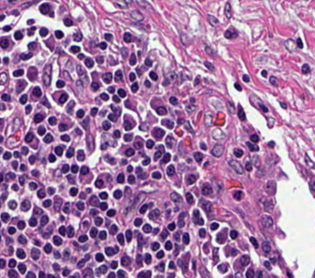nucleus: (229, 160, 242, 173), (43, 64, 51, 85), (152, 127, 164, 139), (211, 144, 223, 156), (199, 200, 211, 212), (130, 10, 143, 21), (265, 180, 275, 194), (201, 183, 212, 195), (261, 215, 272, 227), (285, 39, 295, 51), (224, 29, 237, 38), (170, 192, 181, 202), (161, 119, 173, 128), (238, 105, 245, 120), (86, 135, 93, 150), (208, 15, 218, 25), (186, 174, 196, 184), (149, 209, 159, 219), (264, 199, 273, 210), (225, 2, 231, 18), (77, 65, 85, 77), (66, 101, 74, 113), (246, 142, 258, 150), (54, 197, 61, 210), (204, 61, 214, 70), (102, 73, 111, 83), (59, 93, 68, 103), (111, 105, 120, 115), (233, 148, 243, 157), (216, 233, 225, 243), (114, 70, 122, 81), (115, 0, 127, 7), (227, 101, 234, 113), (81, 117, 88, 129), (40, 4, 49, 13), (32, 87, 41, 96), (89, 196, 98, 205), (73, 31, 81, 41), (123, 32, 131, 42), (41, 97, 49, 107), (194, 152, 202, 162), (162, 153, 170, 163), (166, 165, 174, 175), (40, 215, 48, 225), (85, 58, 93, 67), (149, 71, 157, 80), (166, 72, 175, 80), (34, 114, 43, 122), (124, 120, 132, 129), (43, 134, 52, 142), (125, 148, 134, 156), (233, 191, 242, 199), (76, 201, 84, 210), (139, 204, 147, 213), (67, 225, 73, 237), (125, 229, 131, 241), (53, 236, 61, 245), (156, 107, 166, 114), (66, 147, 73, 157), (77, 150, 84, 160), (186, 193, 193, 203), (110, 224, 117, 234), (160, 230, 167, 240), (250, 237, 257, 247), (129, 54, 135, 65), (166, 136, 172, 147), (117, 233, 123, 244), (55, 30, 63, 38), (91, 82, 99, 90), (169, 96, 177, 104), (76, 109, 84, 117), (108, 113, 116, 121), (102, 121, 110, 129), (154, 151, 162, 159), (80, 166, 88, 174), (95, 179, 103, 187), (37, 189, 45, 197), (113, 190, 121, 198), (43, 199, 51, 207), (99, 202, 107, 210), (143, 224, 151, 232), (151, 242, 159, 250), (302, 64, 309, 73), (118, 88, 125, 97), (260, 103, 267, 112), (186, 105, 195, 112), (185, 122, 192, 131), (55, 146, 62, 155), (117, 173, 124, 182), (70, 187, 77, 196), (33, 207, 42, 214), (29, 217, 36, 226), (194, 217, 203, 224), (59, 226, 66, 235), (78, 235, 87, 242), (296, 38, 302, 48), (183, 233, 189, 243), (138, 234, 143, 246), (64, 19, 72, 26), (40, 28, 47, 36), (104, 33, 112, 40), (205, 46, 212, 54), (96, 55, 103, 63), (56, 80, 64, 87), (131, 83, 138, 91), (100, 93, 108, 100), (48, 117, 56, 124), (59, 123, 66, 131), (37, 127, 45, 134), (124, 134, 132, 141), (250, 134, 258, 141), (146, 140, 153, 148), (134, 141, 142, 148), (48, 154, 55, 162), (152, 171, 160, 178), (107, 209, 115, 216), (95, 217, 102, 225), (134, 218, 141, 226), (177, 219, 184, 227), (230, 230, 237, 238), (99, 231, 106, 239), (165, 241, 172, 249), (70, 46, 79, 52), (270, 76, 276, 85), (245, 161, 251, 170), (193, 209, 199, 218), (90, 228, 96, 237), (63, 203, 68, 213), (99, 42, 106, 49), (234, 83, 241, 90), (113, 130, 120, 137), (29, 182, 36, 189), (168, 223, 175, 230), (145, 58, 151, 66), (243, 74, 249, 82), (61, 135, 69, 141), (62, 164, 68, 172), (71, 165, 77, 173), (31, 170, 39, 176), (128, 175, 134, 183), (99, 192, 107, 198), (210, 223, 218, 229), (194, 76, 199, 85), (129, 73, 135, 80), (113, 95, 119, 102), (91, 108, 97, 115), (142, 158, 149, 164), (48, 187, 54, 194), (90, 209, 97, 215), (199, 229, 205, 236), (144, 80, 150, 86), (108, 86, 114, 92), (280, 102, 286, 108), (75, 128, 81, 134), (268, 141, 274, 147), (200, 143, 206, 149), (68, 176, 74, 182), (79, 192, 85, 198), (136, 167, 141, 174), (139, 173, 146, 178), (122, 49, 126, 57), (261, 70, 266, 76), (158, 145, 163, 151), (127, 165, 132, 171), (153, 228, 158, 234), (34, 240, 40, 245), (174, 233, 178, 240), (78, 54, 83, 59), (100, 110, 105, 115), (101, 144, 106, 149), (83, 221, 88, 226), (178, 119, 183, 123), (50, 12, 53, 17), (190, 98, 194, 101), (86, 188, 90, 191)
